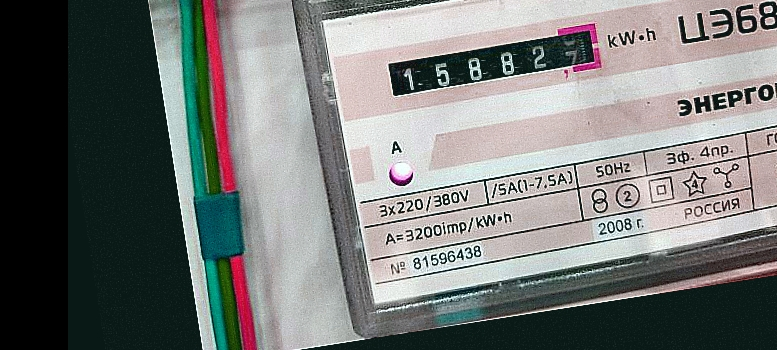1: (400, 63, 418, 93)
2: (529, 41, 549, 71)
5: (432, 58, 453, 88)
7: (562, 46, 581, 65)
8: (464, 53, 484, 83), (498, 47, 517, 77)
screen: (372, 13, 614, 110)
